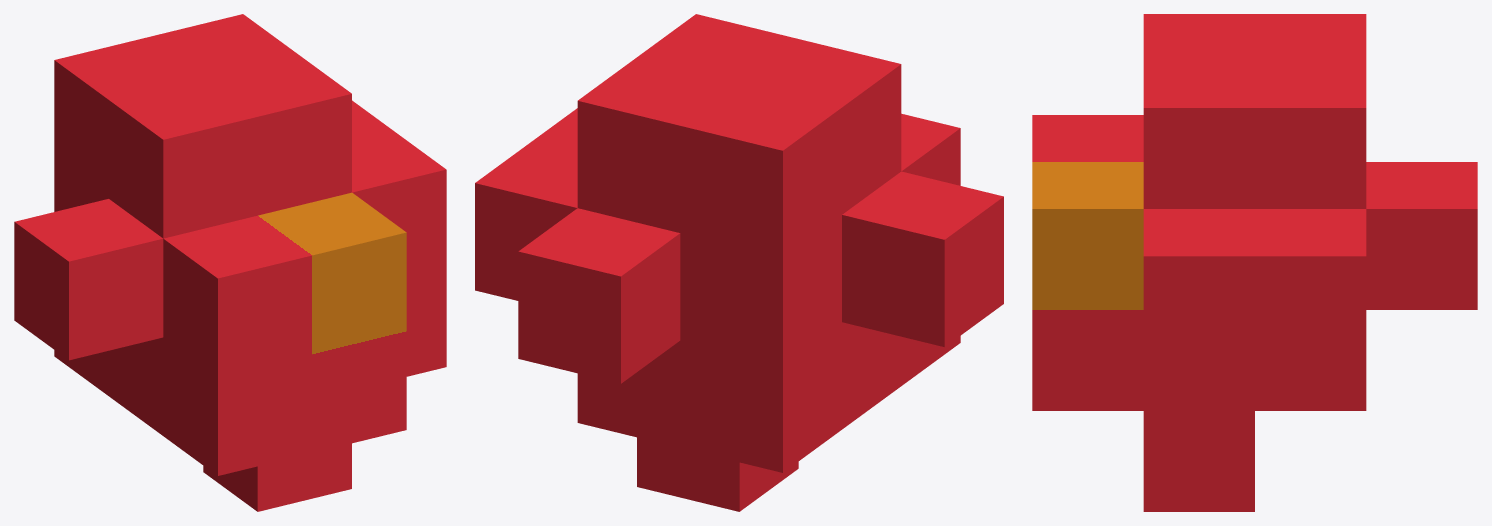
File: Asteorid.fbx
The picture shows the model from 3 angles, left to right: view 1: azimuth 30°, elevation 25°; view 2: azimuth 150°, elevation 25°; view 3: azimuth 270°, elevation 25°; orthographic projection. The views are drawn at different scales.
Parts seen in each view (by area): view 1: Sphere_1; view 2: Sphere_1; view 3: Sphere_1.
Part boxes in pixels (bbox=[...]): Sphere_1: bbox=[14, 14, 446, 511]; Sphere_1: bbox=[475, 14, 1003, 511]; Sphere_1: bbox=[1032, 14, 1477, 511].
Size of the model in its own units: 4 by 4 by 4.
1 material, 1 textured.
